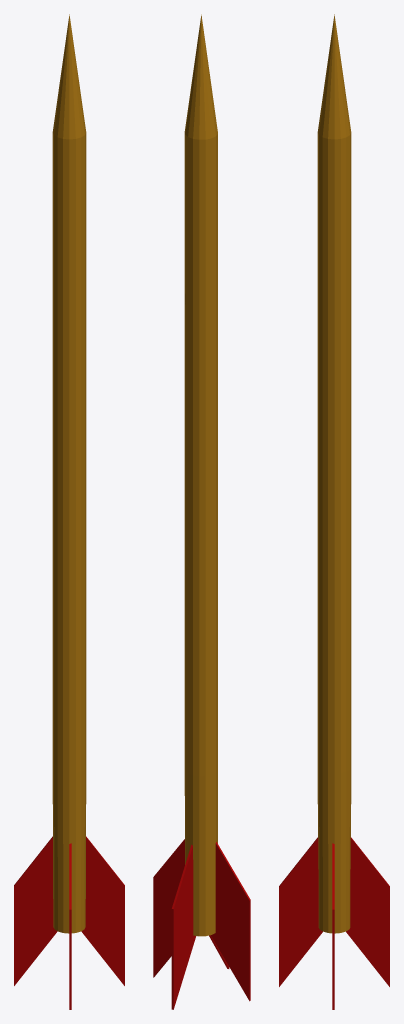
File: arrow.fbx
3 renders of one model, left to right at view 1: azimuth 90°, elevation 25°; view 2: azimuth 150°, elevation 25°; view 3: azimuth 270°, elevation 25°, orthographic.
Parts seen in each view (by area): view 1: 平面; view 2: 平面; view 3: 平面.
Boxes of the visible parts, x1,y1,x2,y2 form: 平面: (14, 14, 124, 1009); 平面: (153, 14, 250, 1009); 平面: (279, 14, 389, 1009).
Size of the model in its own units: 100 by 968 by 100.
